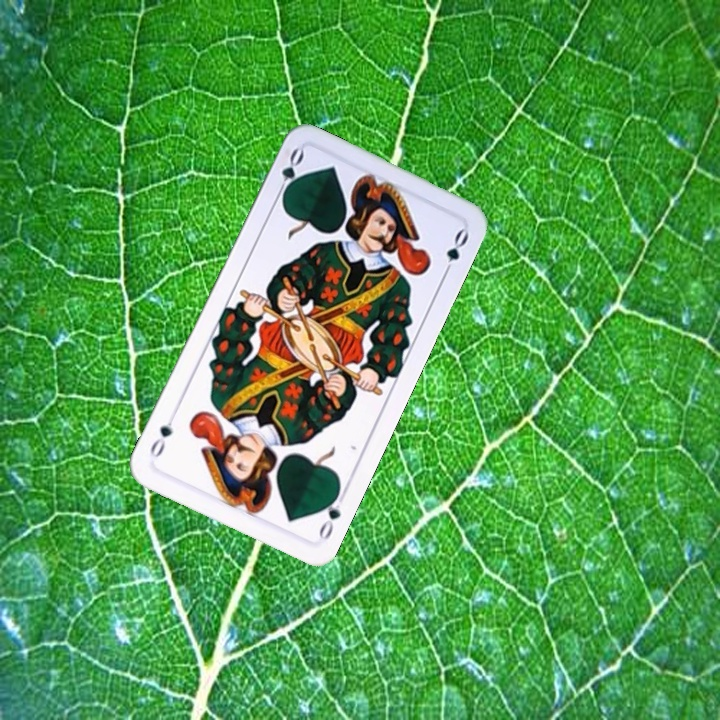GO: (272, 144, 307, 203), (314, 485, 349, 543)
